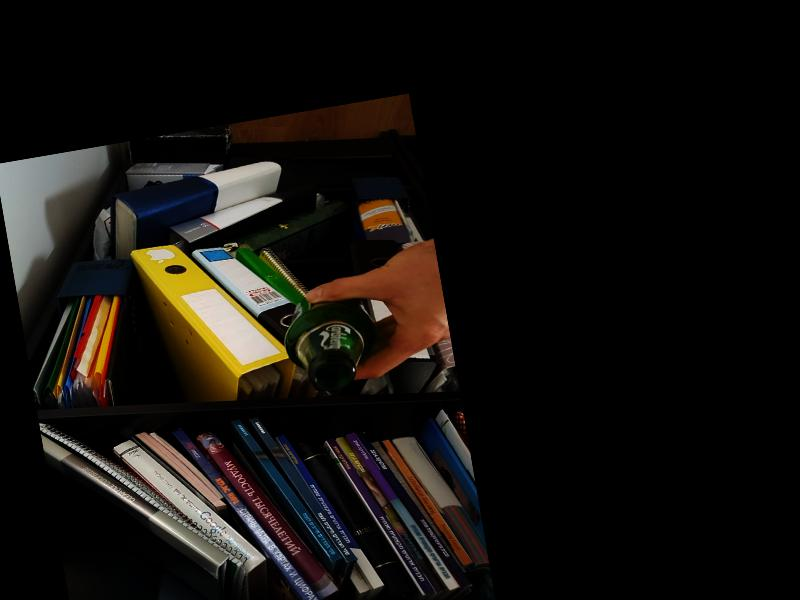Beer: (278, 286, 379, 395)
